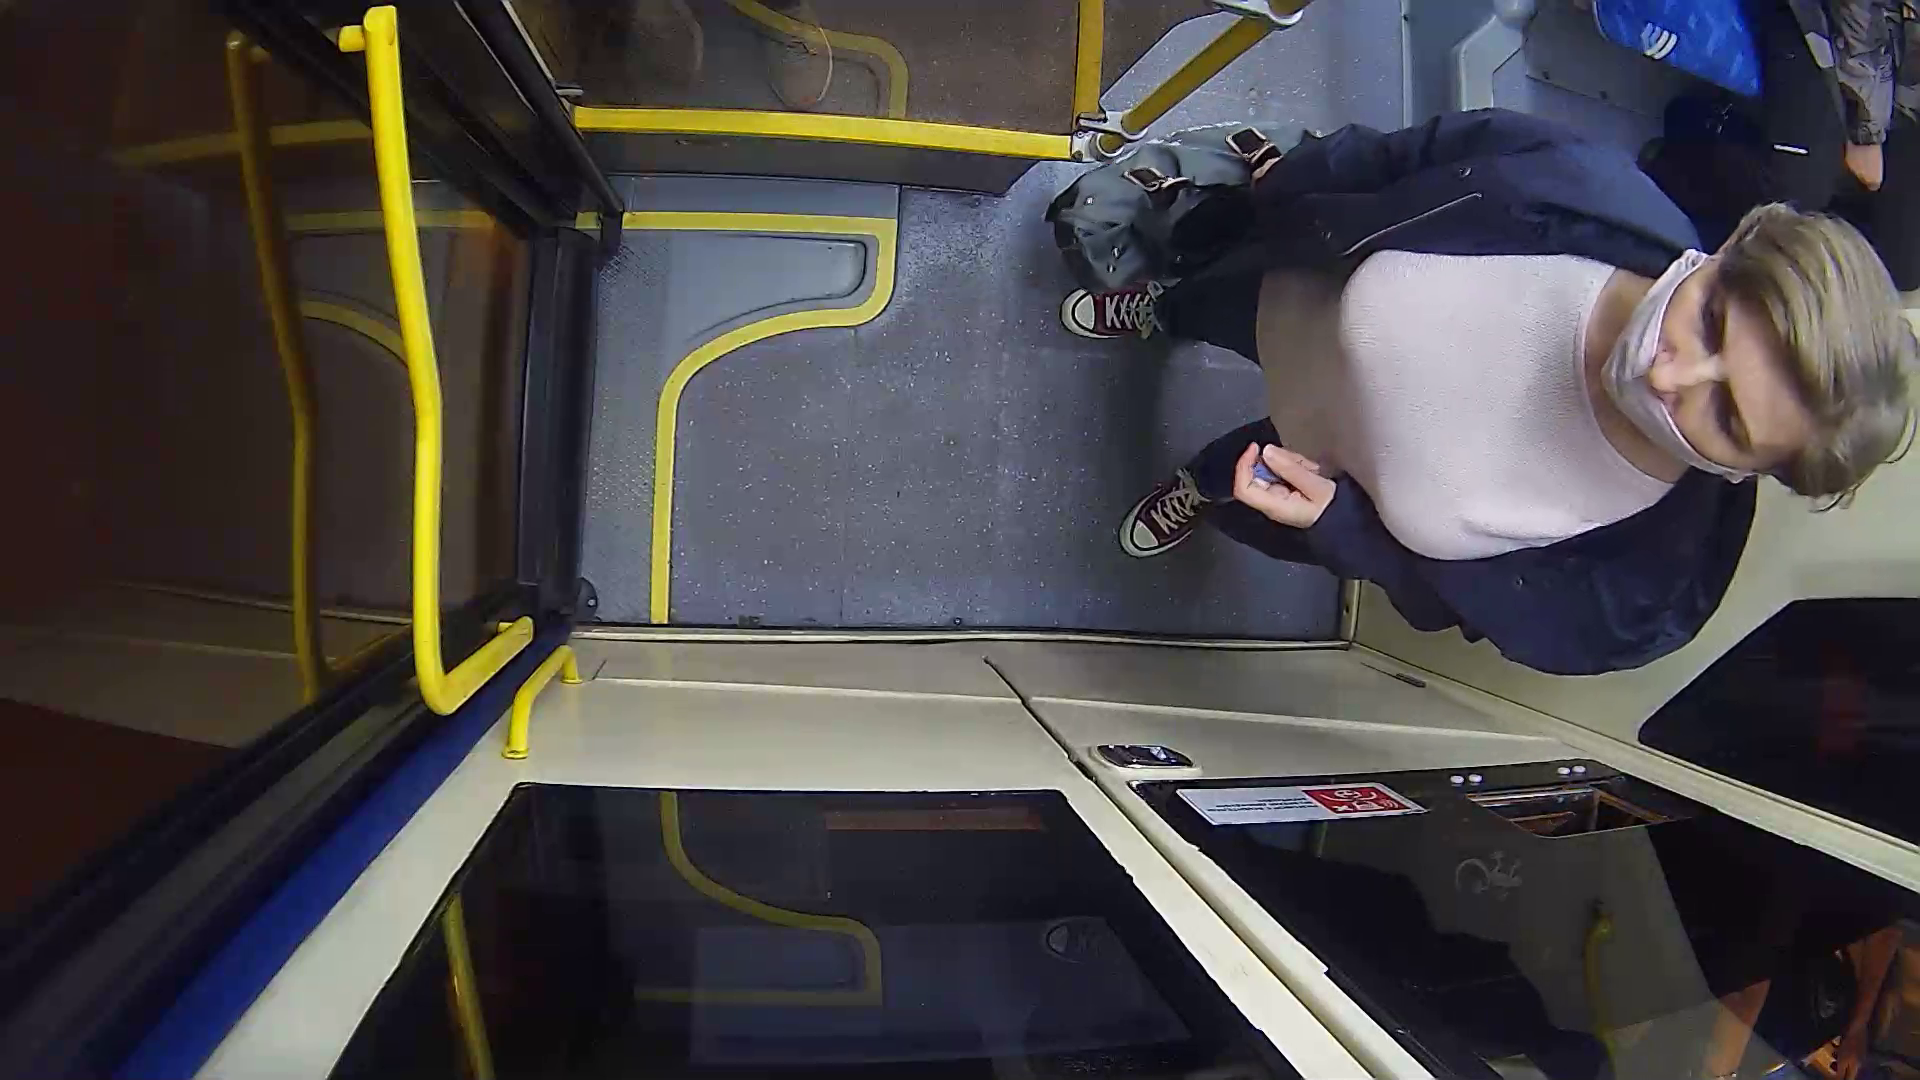person: (1029, 73, 1920, 745)
